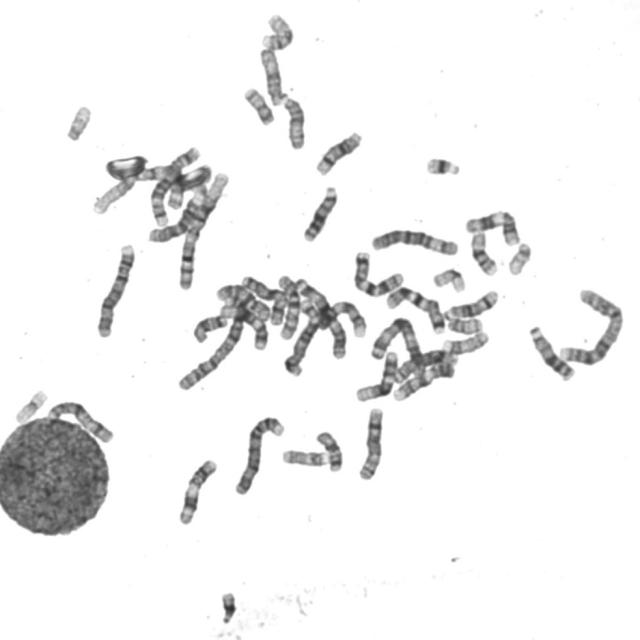A1: (174, 166, 231, 292), (87, 160, 214, 216)
A2: (173, 293, 246, 393), (557, 284, 626, 367)
A3: (293, 277, 348, 360), (368, 312, 428, 383)
B4: (231, 412, 287, 498), (92, 239, 138, 339)
B5: (148, 141, 202, 232), (282, 299, 322, 378)
C10: (214, 282, 272, 325), (274, 270, 302, 342)
C11: (174, 455, 220, 527), (462, 206, 524, 247)
C12: (216, 297, 270, 353), (352, 347, 400, 404)
C6: (144, 183, 208, 245), (368, 224, 461, 258)
C7: (381, 282, 448, 336), (351, 247, 406, 298)
C8: (390, 344, 460, 385), (355, 404, 386, 482)
C9: (389, 358, 457, 403), (316, 300, 368, 339)
D13: (526, 321, 578, 382), (299, 181, 340, 244)
D14: (312, 127, 365, 177), (440, 286, 500, 321)
D15: (256, 44, 286, 107), (280, 92, 308, 151)
E16: (258, 9, 296, 52), (468, 228, 500, 278)
E17: (439, 328, 492, 354), (278, 445, 328, 469)
E18: (312, 427, 344, 473), (191, 310, 230, 344)
F19: (10, 384, 49, 424), (430, 264, 468, 294)
F20: (240, 83, 278, 127), (447, 315, 483, 336)
G21: (422, 152, 463, 178), (216, 588, 239, 626)
G22: (504, 238, 534, 276), (65, 104, 93, 142)
X: (44, 396, 116, 445), (238, 270, 290, 327)
